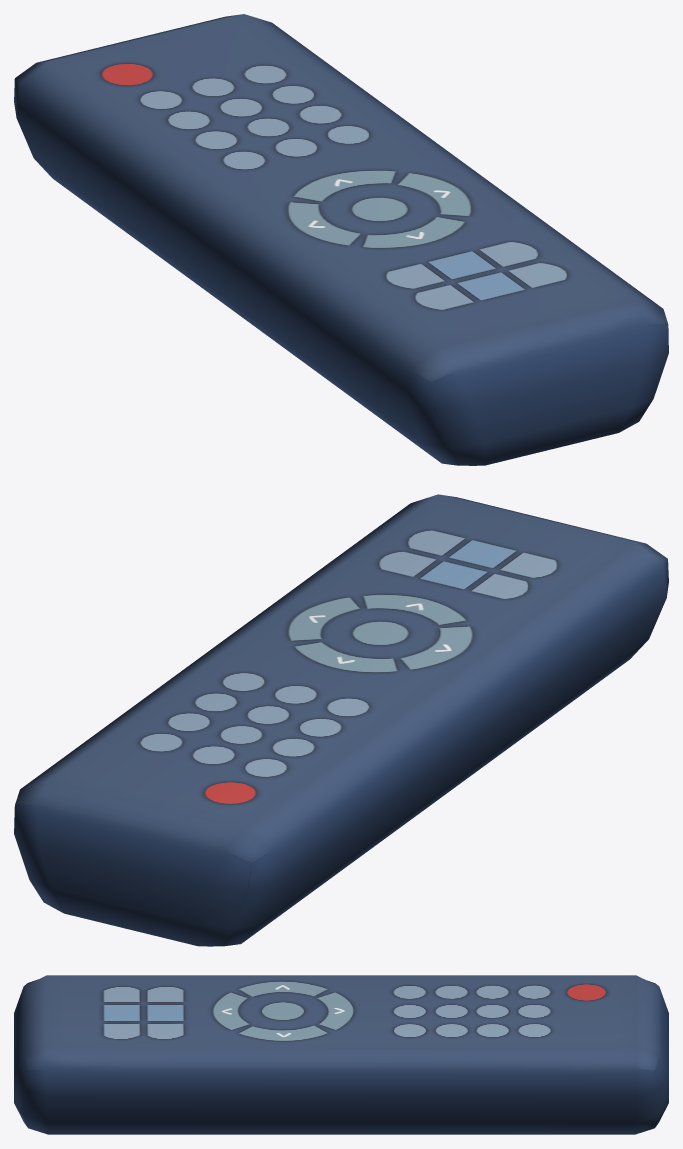
Rendered from remote.fbx.
3 renders of one model, top to bottom at view 1: azimuth 30°, elevation 25°; view 2: azimuth 150°, elevation 25°; view 3: azimuth 270°, elevation 25°, orthographic. The views are drawn at different scales.
Visible parts, largest first — view 1: Remote_mesh; view 2: Remote_mesh; view 3: Remote_mesh.
Part boxes in pixels (box(x1,y1,x2,y2)): Remote_mesh: box(14, 14, 668, 465); Remote_mesh: box(14, 494, 668, 946); Remote_mesh: box(14, 975, 668, 1134).
Bounding box in the file's own units: 1.11 × 0.5152 × 3.2.
1 material, 1 textured.
